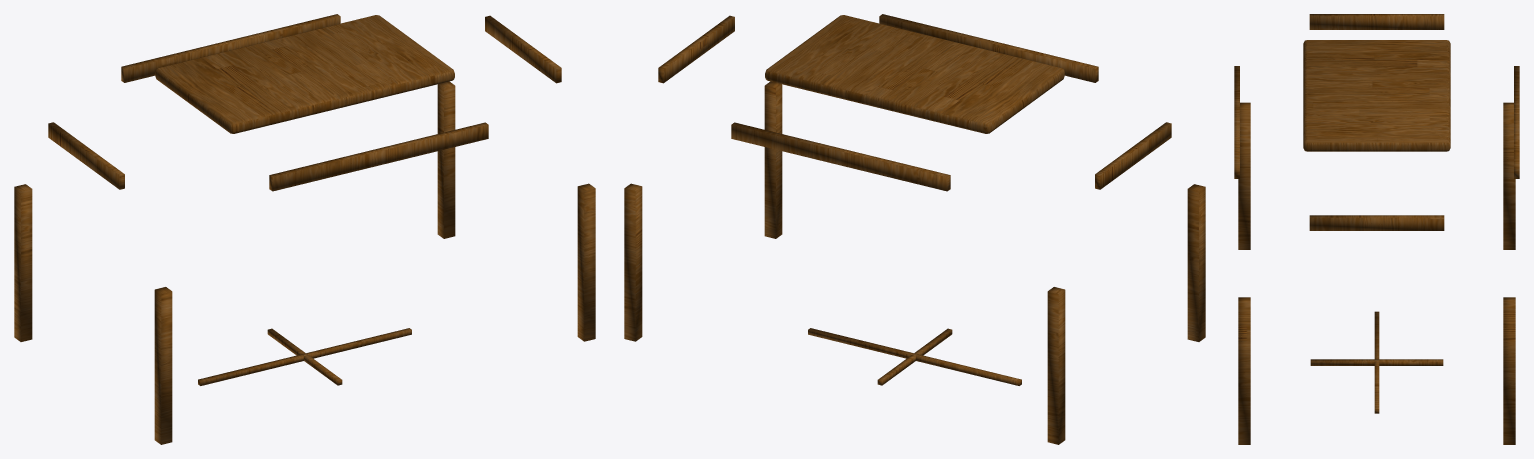
The model's file is dining_table.glb.
3 views of the same model, side by side, from view 1: azimuth 30°, elevation 25°; view 2: azimuth 150°, elevation 25°; view 3: azimuth 270°, elevation 25° (orthographic). The views are drawn at different scales.
Visible parts, largest first — view 1: dining_table; view 2: dining_table; view 3: dining_table.
Boxes of the visible parts, <box> form: dining_table: <box>14,14,595,444</box>; dining_table: <box>624,14,1205,444</box>; dining_table: <box>1234,14,1519,444</box>.
Bounding box in the file's own units: 0.982 × 0.6175 × 0.582.
Materials: 1 (1 with a texture image).
